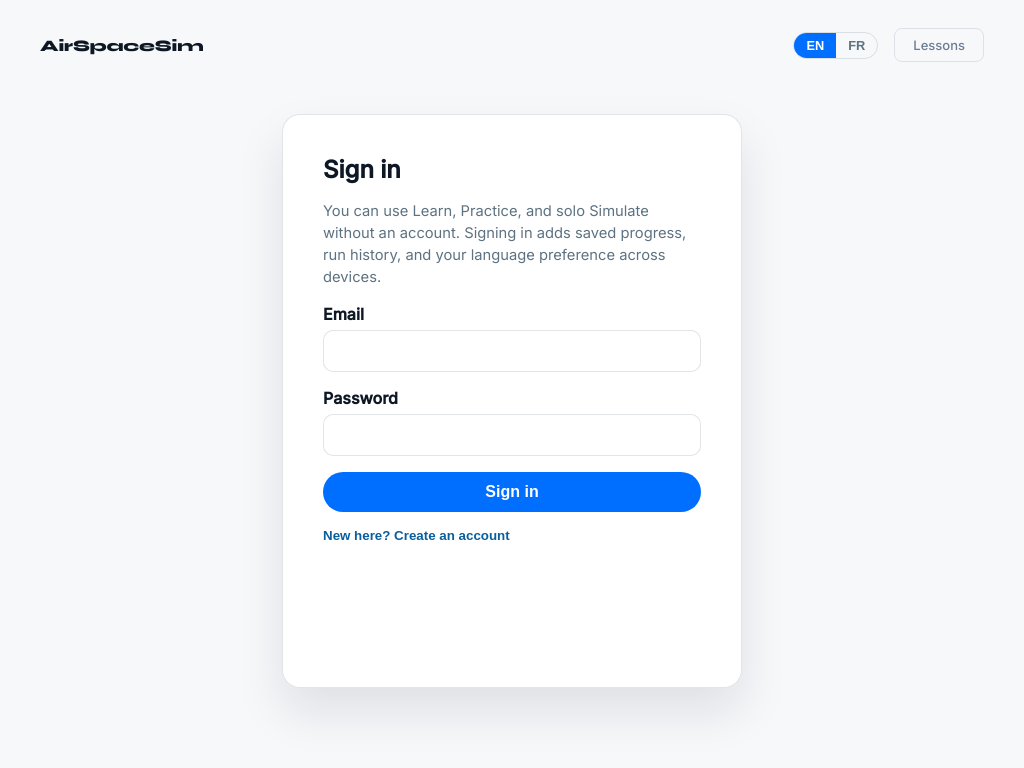
AccountPage › lets a guest sign in and shows the profile with persistence note
Check: the text "without an account" is shown, box x1=323 y1=202 x2=686 y2=286
Type "trainee@example.test" into the field labelled "Email" at (512, 351), box x1=323 y1=330 x2=701 y2=372
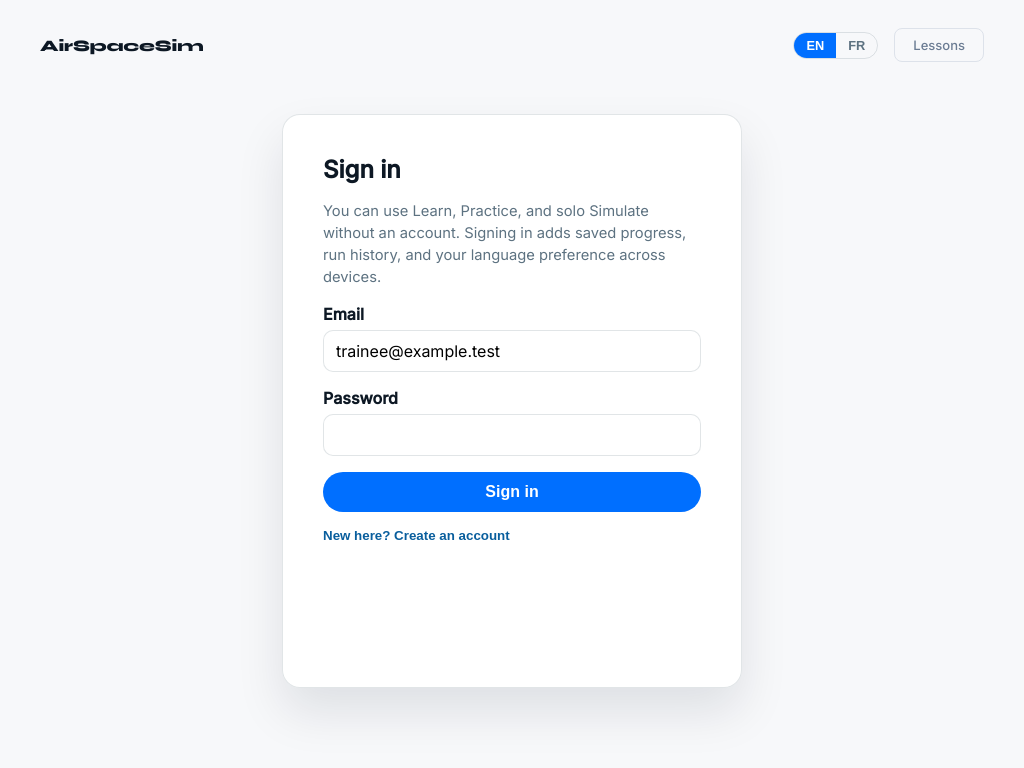
Type "training-pass-1" into the password field labelled "Password" at (512, 435), box x1=323 y1=414 x2=701 y2=456
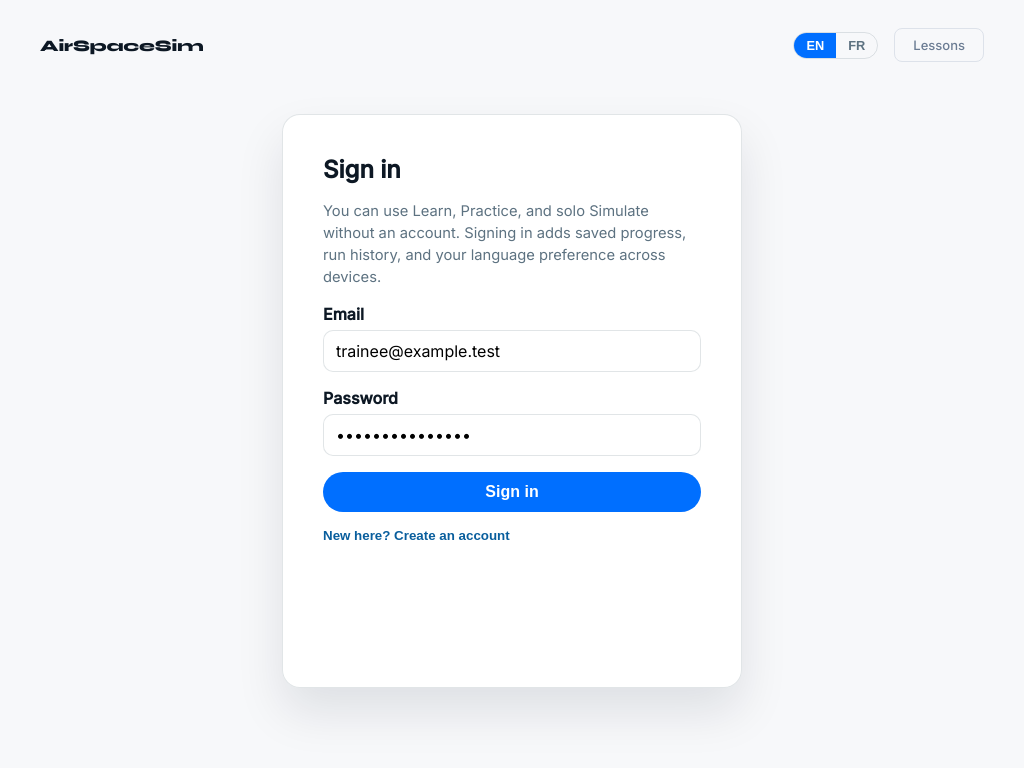
Click the button "Sign in" at (512, 492), box x1=323 y1=472 x2=701 y2=512
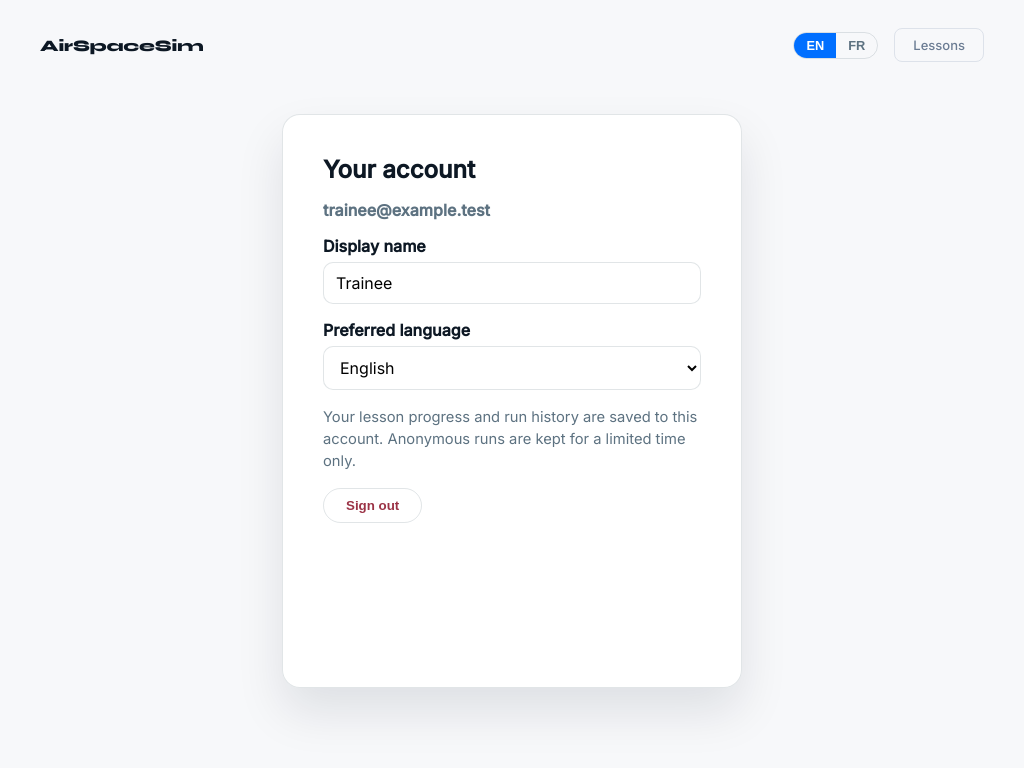
Check: the heading "Your account" is shown, box x1=323 y1=155 x2=475 y2=184
Check: the text "trainee@example.test" is shown, box x1=323 y1=200 x2=490 y2=220
Check: the dropdown labelled "Preferred language" shows "English", box x1=323 y1=346 x2=701 y2=390
